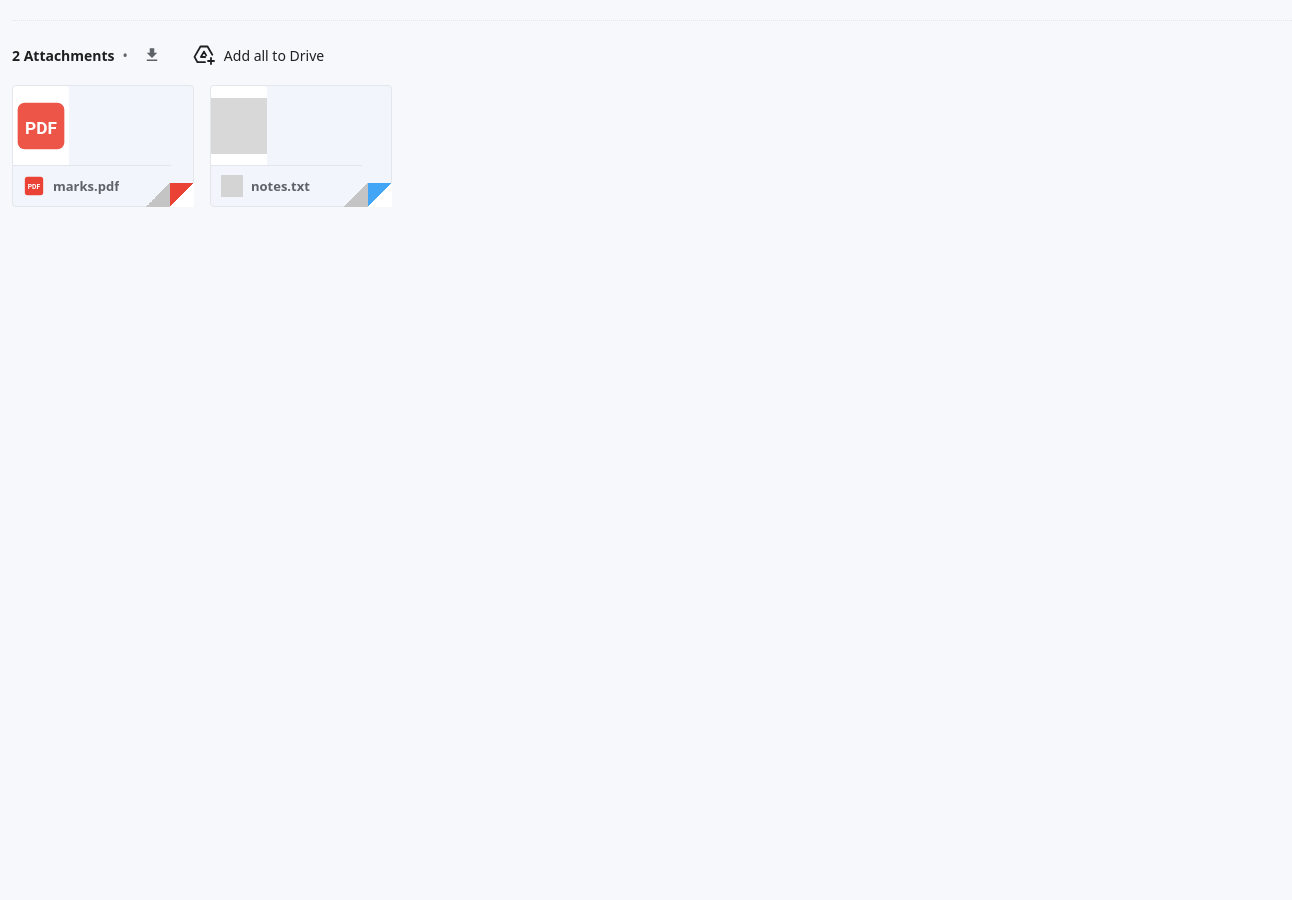
Test: Save to cloud storage › offers to connect when no account is connected
This screenshot has width=1292, height=900.
Click the button "Add all to Drive": (260, 55) left=180, top=37, right=340, bottom=73
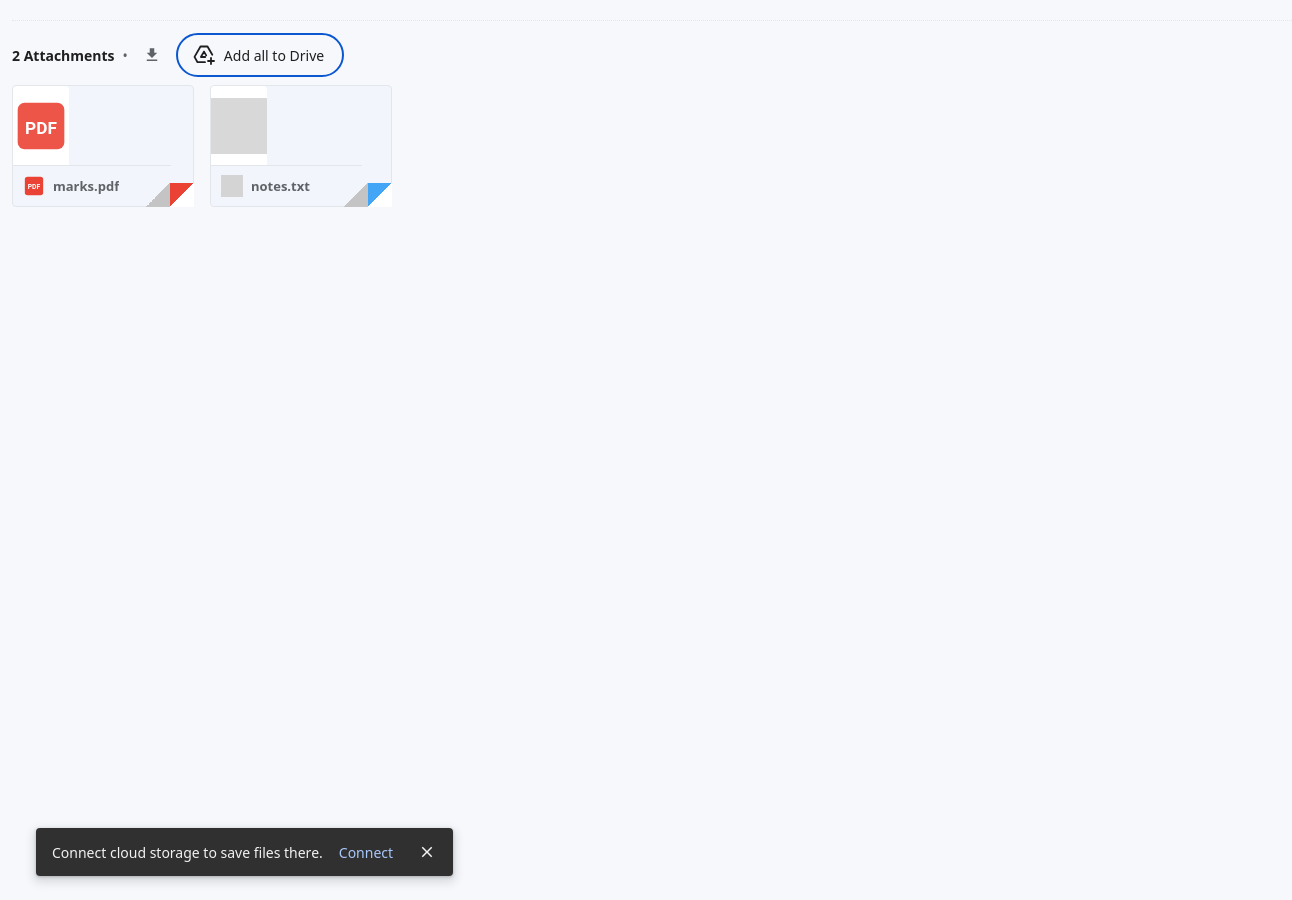
Expected: the text "Connect cloud storage to save files there." is shown, left=52, top=842, right=323, bottom=862
